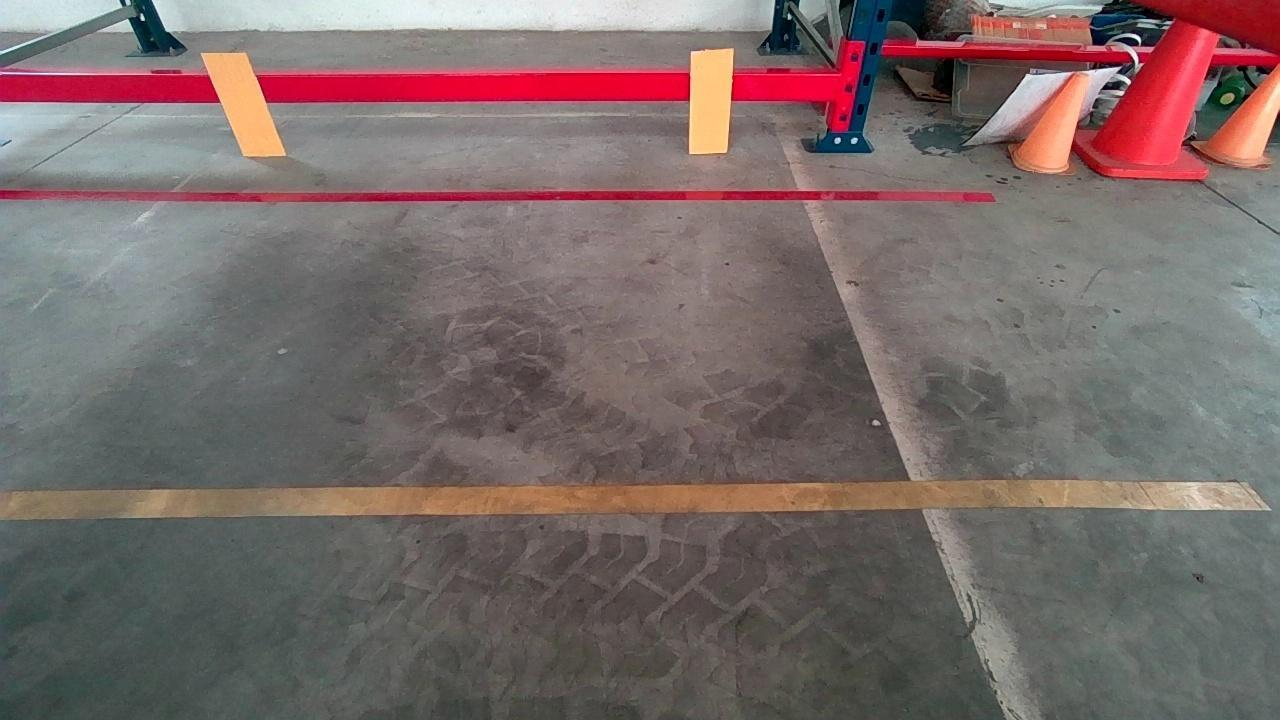h_rack: (0, 68, 839, 104)
orange_strip: (201, 52, 286, 156), (689, 50, 733, 149)
red_line: (0, 188, 994, 202)
yellow_line: (0, 479, 1270, 520)
